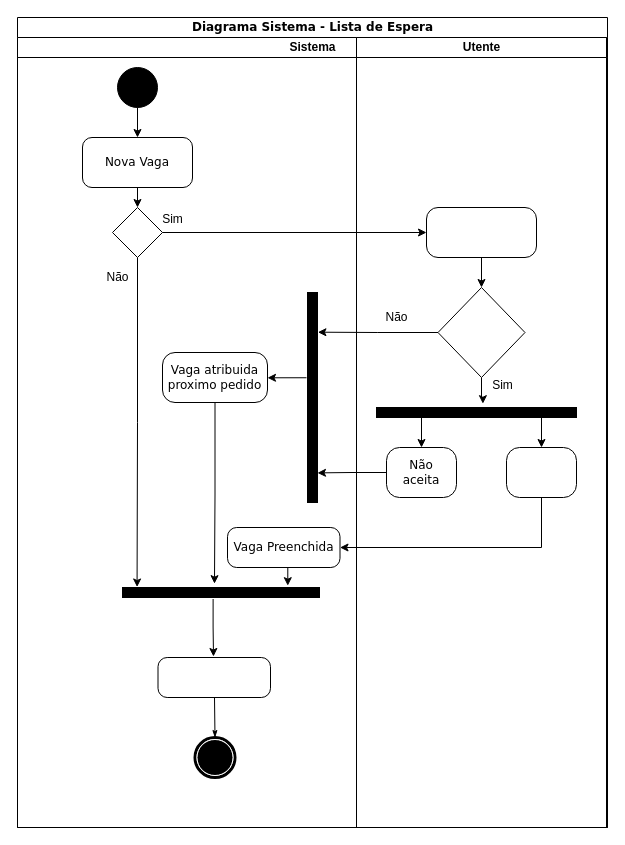
This 625x845 diagram has some shape labels left out. The centre of each missing label's shape, as x and y in pixels:
"Aceita Vaga" belongs at point 541,472.
"Atualização da Lista de Espera" belongs at point 213,677.
"Confirmar se quer a vaga" belongs at point 481,232.
"Se Respondeu" belongs at point 481,332.
